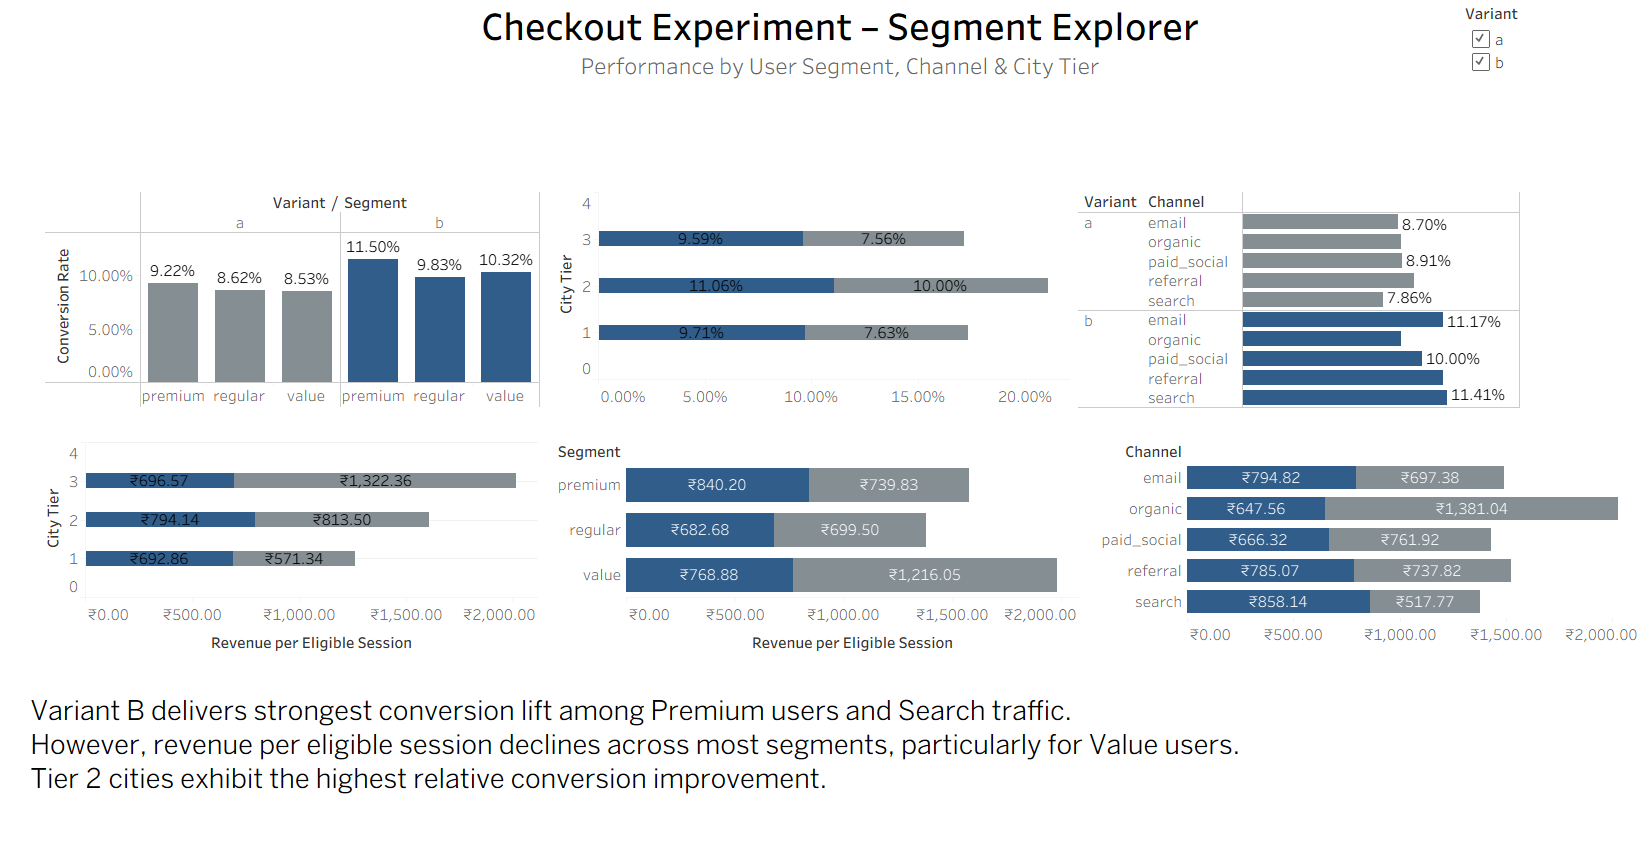

The dashboard page shown, as its layout file describes it:
{"tool":"tableau","page":{"name":"Checkout Experiment – Segment Explorer","canvas":[1000,1000],"units":"permille","ordinal":2},"visuals":[{"type":"text","box":[19.6,1.2,976.6,108]},{"type":"filter","title":"Conversion by Segment","param":"[federated.1qxr99x1sowk4t114qm141a9byt1].[none:variant:nk]","box":[885.4,11.6,106.4,148.7]},{"type":"worksheet","title":"Conversion by Segment","mark":"Automatic","rows":["Calculation_2002694502389956608"],"cols":["variant","segment"],"box":[26,226.5,303.6,260.2]},{"type":"worksheet","title":"Conversion by City Tier","mark":"Bar","rows":["city_tier"],"cols":["Calculation_2002694502389956608"],"box":[329.5,226.5,319.9,260.2]},{"type":"worksheet","title":"Conversion by channel","mark":"Automatic","rows":["variant","channel"],"cols":["Calculation_2002694502389956608"],"box":[649.4,226.5,271.6,260.2]},{"type":"worksheet","title":"Revenue per Session by City Tier","mark":"Bar","rows":["city_tier"],"cols":["Calculation_2002694502393806849"],"box":[19.6,516.8,308.6,262.5]},{"type":"worksheet","title":"Revenue per Session by Segment","mark":"Automatic","rows":["segment"],"cols":["Calculation_2002694502393806849"],"box":[328.2,516.8,326.7,262.5]},{"type":"worksheet","title":"Revenue per Session by Channel","mark":"Automatic","rows":["channel"],"cols":["Calculation_2002694502393806849"],"box":[654.9,516.8,338.8,262.5]},{"type":"text","box":[17.7,779.3,977.2,185.8]}]}

Visuals, with their boxes on the dashboard's canvas, which has no fixed pixel size, in thousandths of its width and height (x1, y1, x2, y2). These are canvas units, not pixel positions in the 1641x842 screenshot, which may show the page scaled, cropped or inside an application window:
text: <box>20,1,996,109</box>
"Conversion by Segment" filter: <box>885,12,992,160</box>
"Conversion by Segment" worksheet: <box>26,226,330,487</box>
"Conversion by City Tier" worksheet (Bar marks): <box>330,226,649,487</box>
"Conversion by channel" worksheet: <box>649,226,921,487</box>
"Revenue per Session by City Tier" worksheet (Bar marks): <box>20,517,328,779</box>
"Revenue per Session by Segment" worksheet: <box>328,517,655,779</box>
"Revenue per Session by Channel" worksheet: <box>655,517,994,779</box>
text: <box>18,779,995,965</box>
